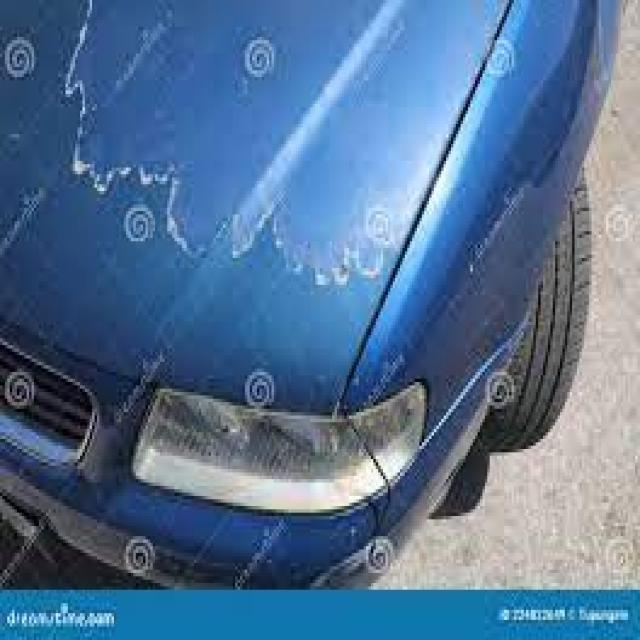paint-chip: (46, 0, 415, 293)
